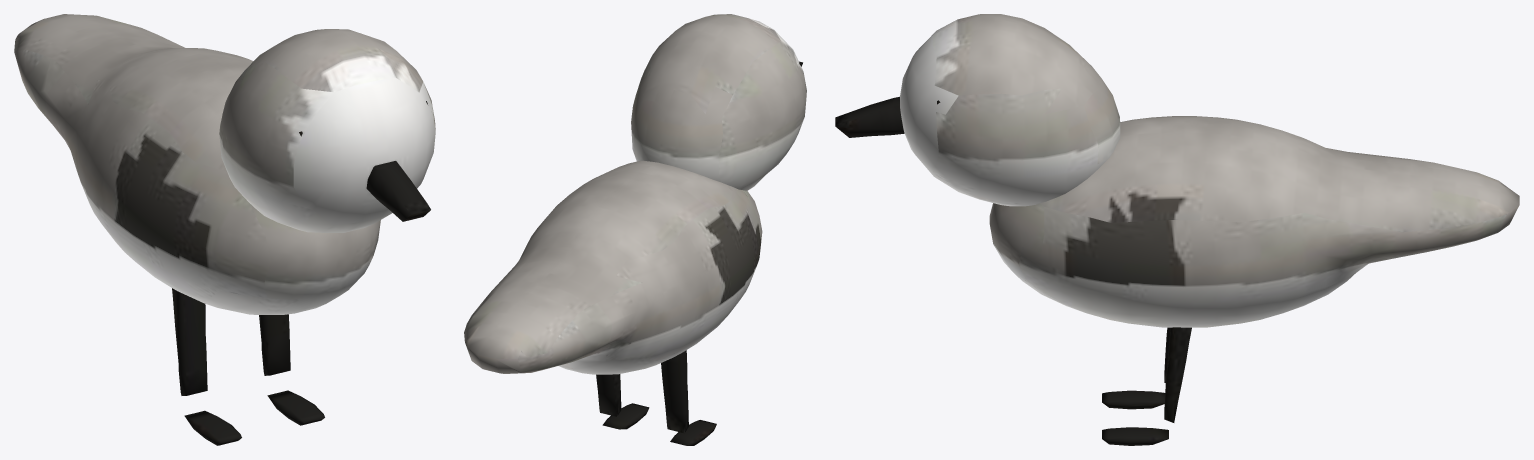
Rendered from sandpiper.glb.
3 renders of one model, left to right at view 1: azimuth 30°, elevation 25°; view 2: azimuth 150°, elevation 25°; view 3: azimuth 270°, elevation 25°, orthographic. The views are drawn at different scales.
Parts seen in each view (by area): view 1: sandpiper, head, leg0, leg1; view 2: sandpiper, head, leg0, leg1; view 3: sandpiper, head, leg1, leg0.
Part boxes in pixels (x1,y1,x2,y2): sandpiper: [14, 14, 380, 314]; head: [219, 29, 435, 232]; leg0: [172, 288, 241, 445]; leg1: [259, 314, 324, 425]; sandpiper: [464, 160, 762, 374]; head: [631, 14, 806, 190]; leg0: [661, 350, 716, 445]; leg1: [596, 374, 649, 429]; sandpiper: [989, 116, 1519, 327]; head: [835, 14, 1120, 206]; leg1: [1102, 327, 1191, 445]; leg0: [1102, 327, 1170, 409].
Bounding box in the file's own units: 0.0524 × 0.102 × 0.1581.
Materials: 1 (1 with a texture image).
